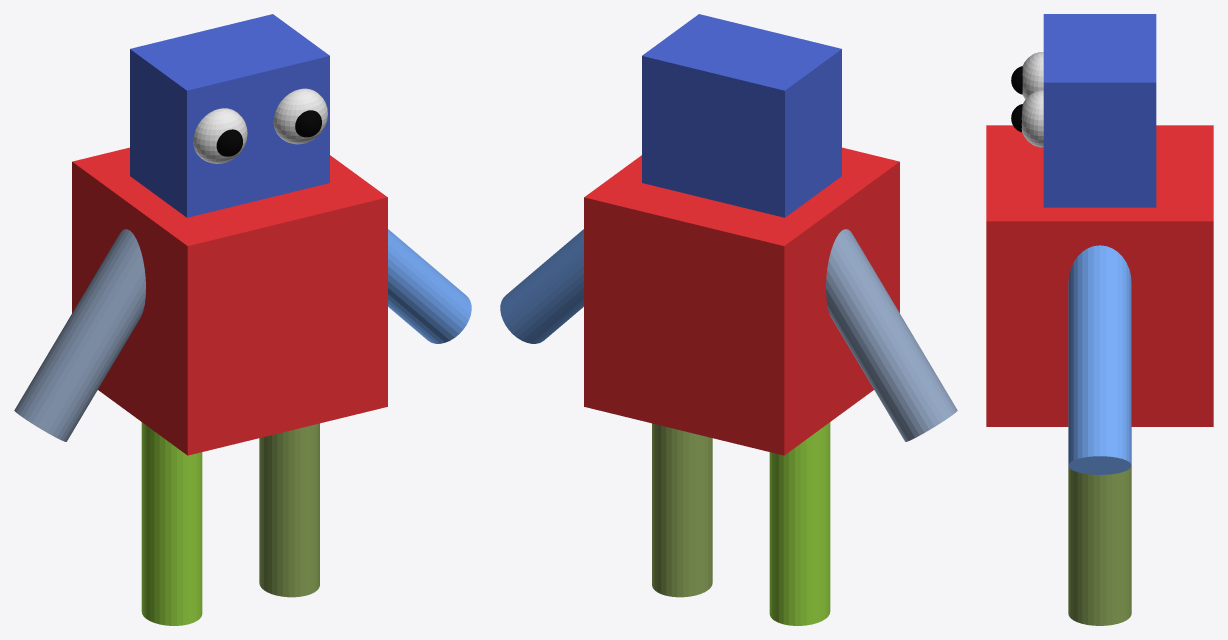
The model's file is NPC1.fbx.
3 views of the same model, side by side, from view 1: azimuth 30°, elevation 25°; view 2: azimuth 150°, elevation 25°; view 3: azimuth 270°, elevation 25° (orthographic).
Parts seen in each view (by area): view 1: Cilindro.001; view 2: Cilindro.001; view 3: Cilindro.001.
Boxes of the visible parts, <box> form: Cilindro.001: <box>14,14,471,625</box>; Cilindro.001: <box>500,14,957,625</box>; Cilindro.001: <box>986,14,1213,625</box>.
Bounding box in the file's own units: 446 × 521 × 200.
